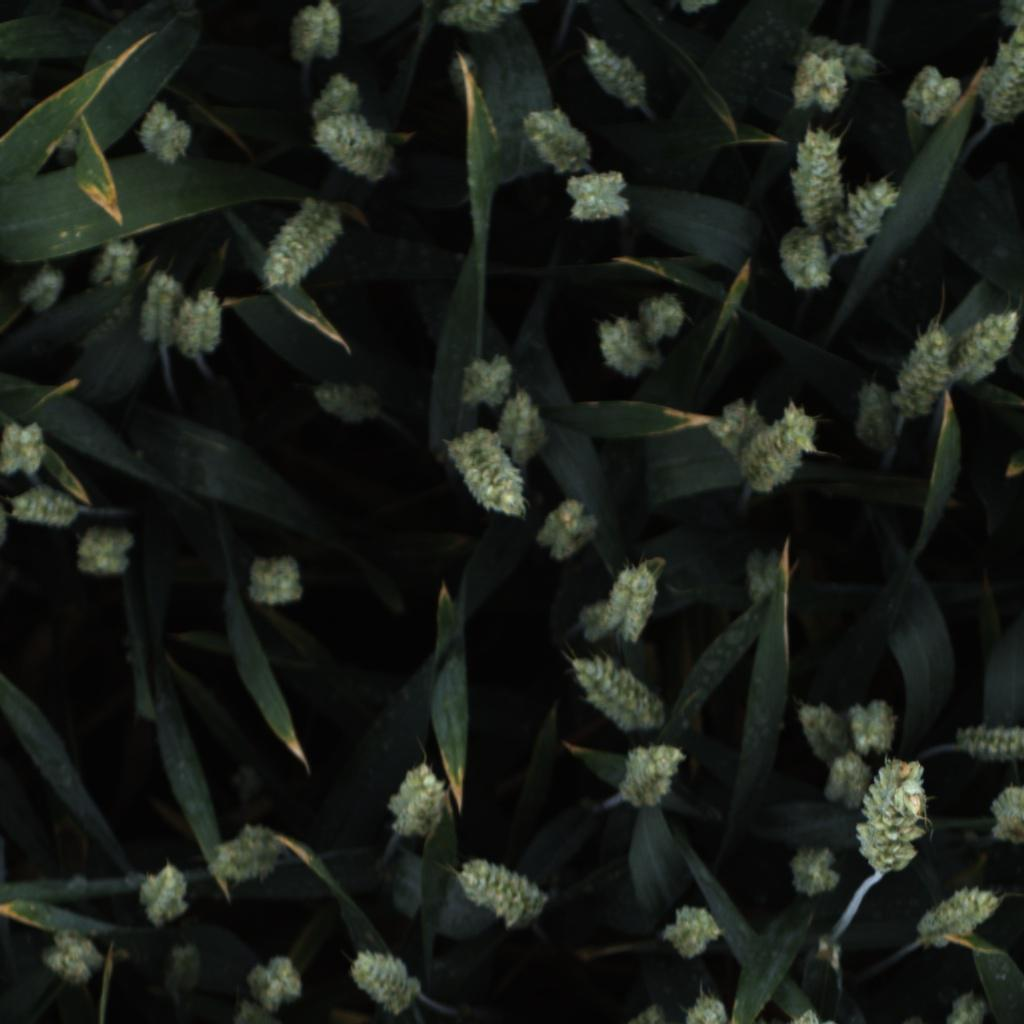0-0: (852, 753, 934, 879), (449, 853, 553, 942), (255, 194, 346, 293), (733, 400, 821, 500), (576, 559, 671, 649), (441, 426, 531, 521), (566, 653, 667, 736), (885, 320, 955, 420), (576, 33, 662, 113), (833, 167, 909, 257), (310, 111, 401, 184), (912, 884, 1006, 953), (789, 127, 851, 230), (951, 304, 1024, 390), (296, 65, 375, 143), (205, 821, 293, 891), (346, 941, 427, 1017), (384, 756, 453, 845), (519, 108, 601, 182), (614, 741, 694, 814), (975, 26, 1024, 131), (133, 853, 196, 934), (774, 224, 842, 298), (170, 282, 230, 364), (658, 897, 728, 967), (129, 267, 184, 355), (896, 61, 964, 132), (534, 493, 602, 563), (588, 314, 658, 382), (240, 547, 311, 614), (306, 371, 386, 430), (281, 1, 348, 71), (793, 29, 879, 83), (494, 390, 559, 461), (132, 98, 197, 169), (848, 375, 903, 458), (35, 922, 104, 988), (68, 522, 145, 581), (447, 351, 520, 412), (845, 690, 910, 757), (558, 169, 635, 225), (704, 394, 770, 456), (786, 52, 847, 119), (730, 540, 791, 607), (6, 479, 89, 528), (630, 287, 697, 346), (794, 692, 852, 759), (242, 953, 307, 1011), (76, 289, 134, 354), (0, 417, 58, 480), (153, 939, 211, 1002), (817, 746, 873, 811), (12, 260, 71, 321), (952, 719, 1024, 768), (87, 232, 144, 293), (785, 842, 844, 900), (435, 1, 525, 38), (983, 779, 1024, 850), (675, 988, 732, 1024), (940, 989, 995, 1024), (231, 1001, 282, 1024), (626, 999, 671, 1024), (997, 0, 1024, 29), (677, 0, 720, 12)
